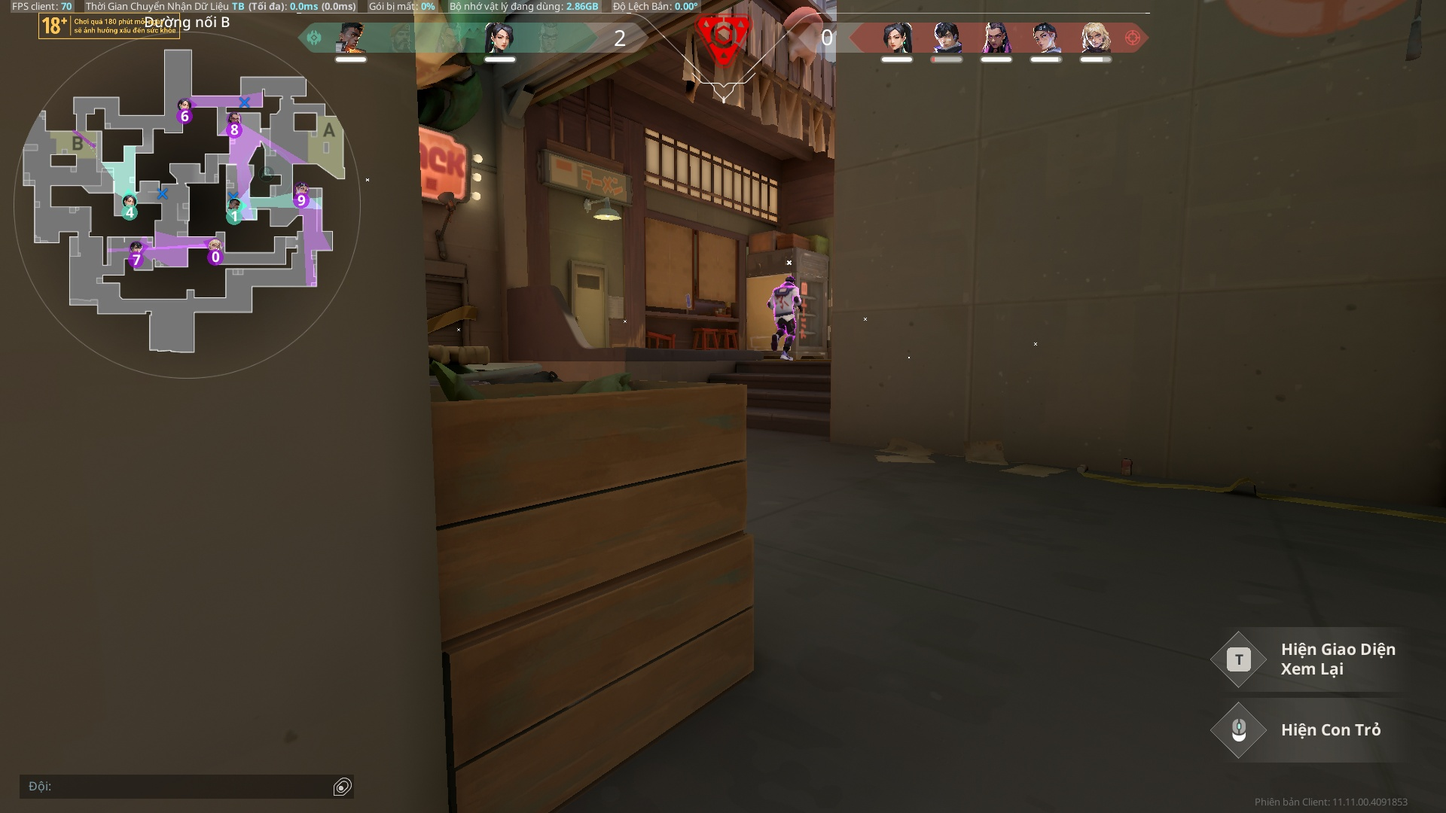body: (771, 285, 800, 315)
head: (784, 274, 795, 285)
